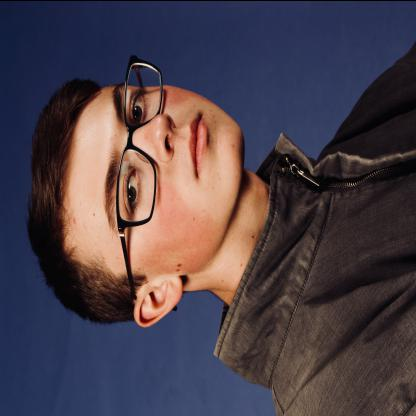Eye: (124, 166, 141, 214), (129, 92, 146, 126)
Mouth: (188, 111, 209, 179)
Nose: (133, 112, 175, 162)
